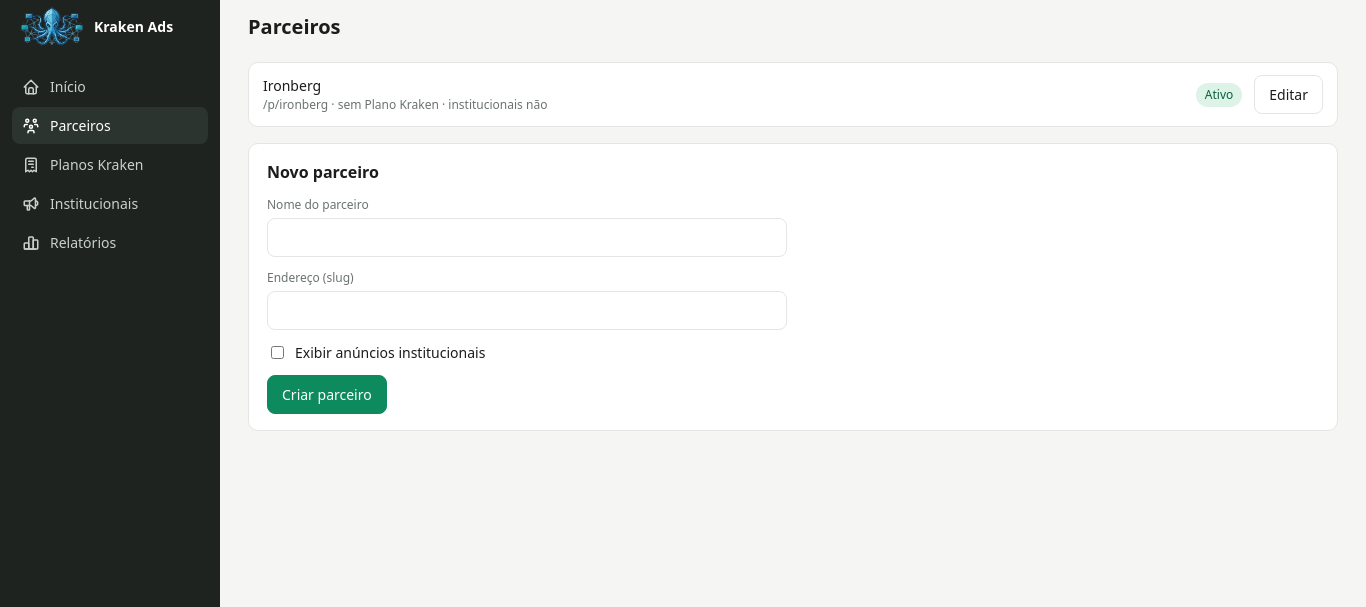
Test: admin partners › edits weights and adds a partner user
The image size is (1366, 607).
Click the button with aria-label "Editar Ironberg".
click(1289, 94)  # box [1254, 75, 1323, 114]
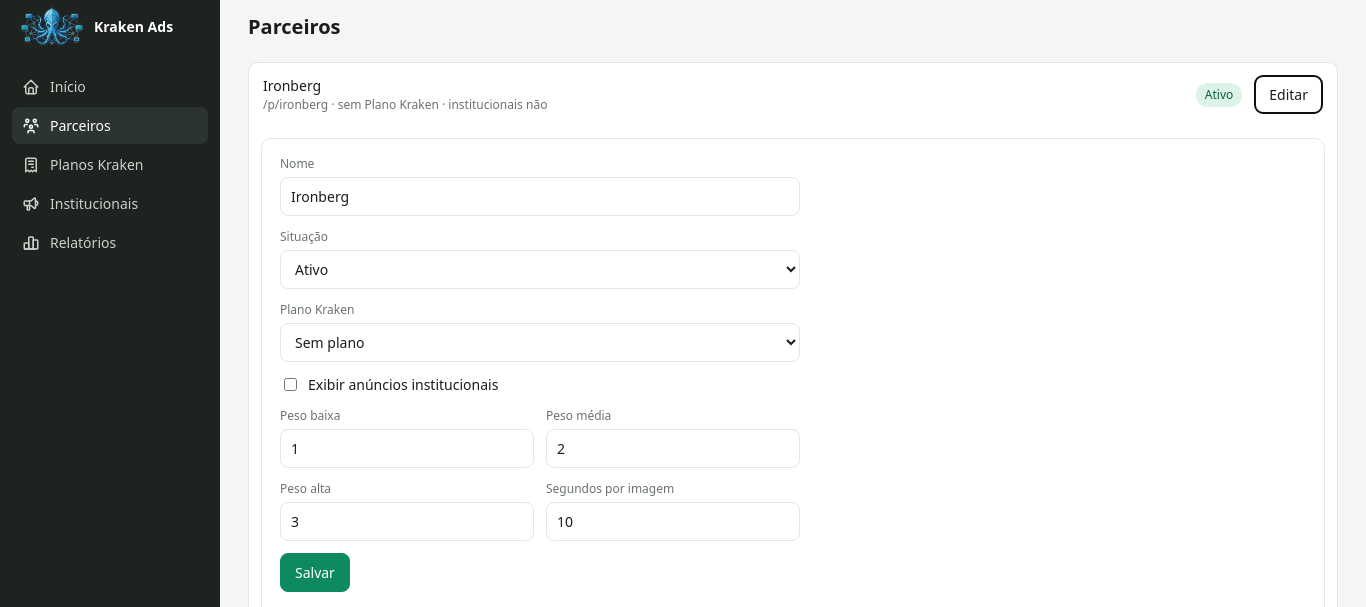
Replace the text in the number field labelled "Peso alta" with "5" at [407, 522], box [280, 502, 534, 541]
Click the checkbox labelled "Exibir anúncios institucionais".
click(290, 384)  # box [284, 378, 297, 391]
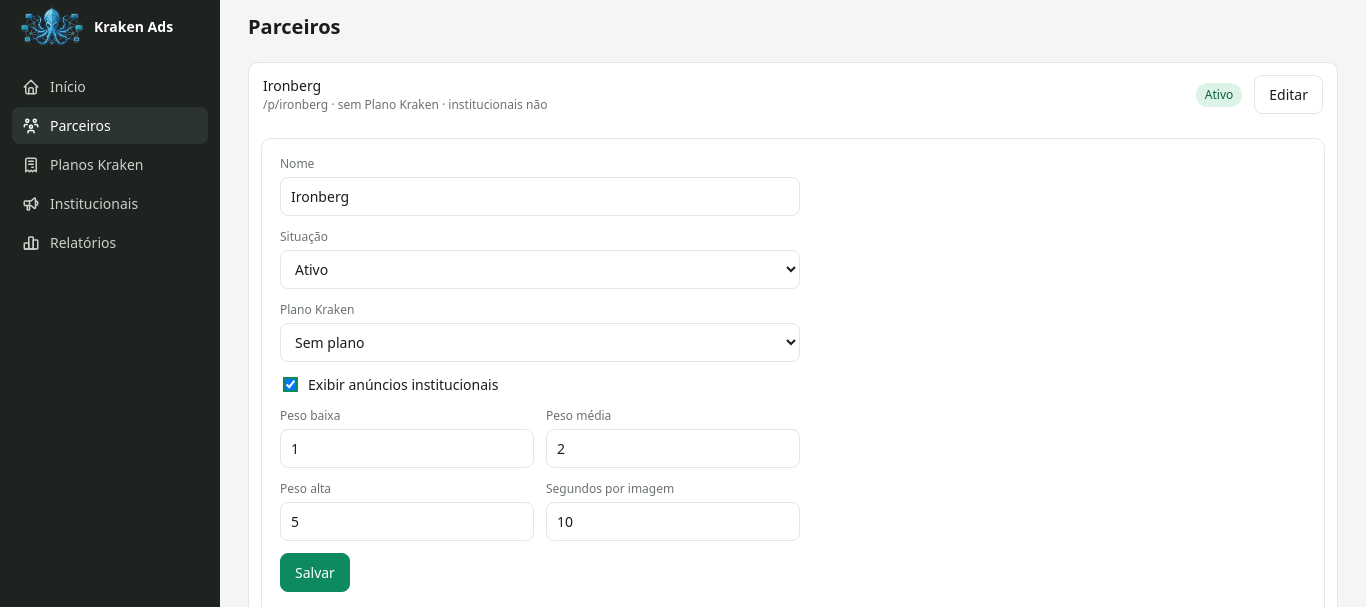
Click the button "Salvar".
click(315, 572)  # box [280, 553, 350, 592]
(page scrolled)
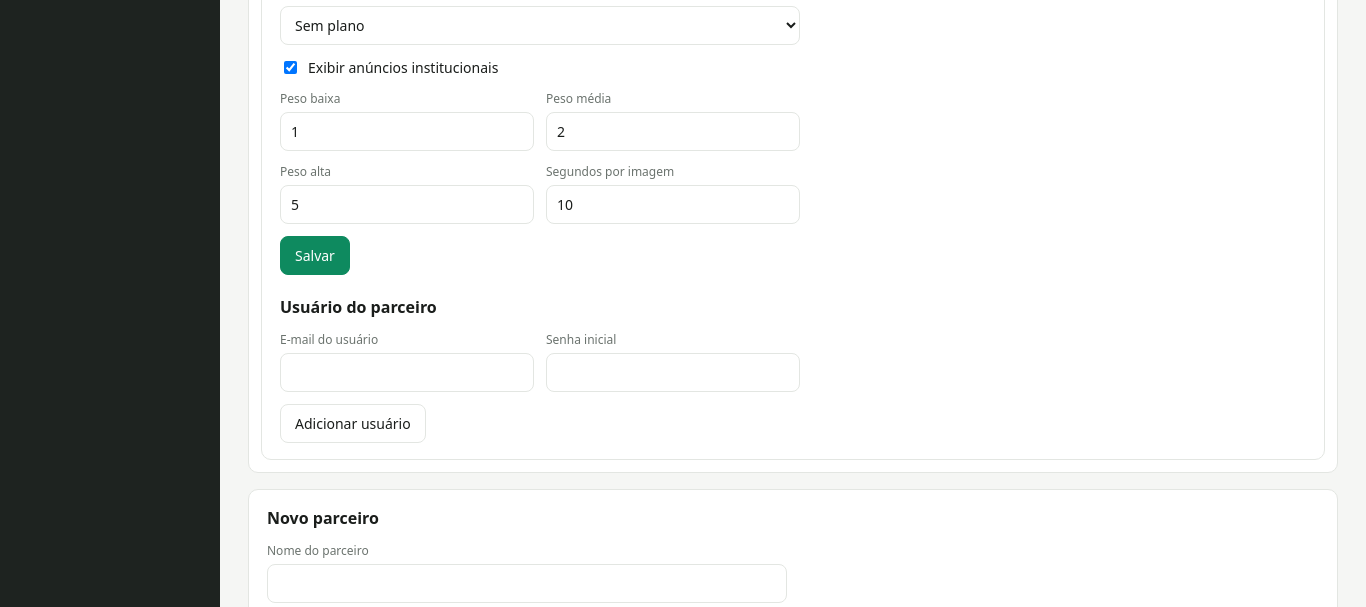
Type "g@iron.com" into the field labelled "E-mail do usuário".
click(407, 372); type("g@iron.com")  # box [280, 353, 534, 392]
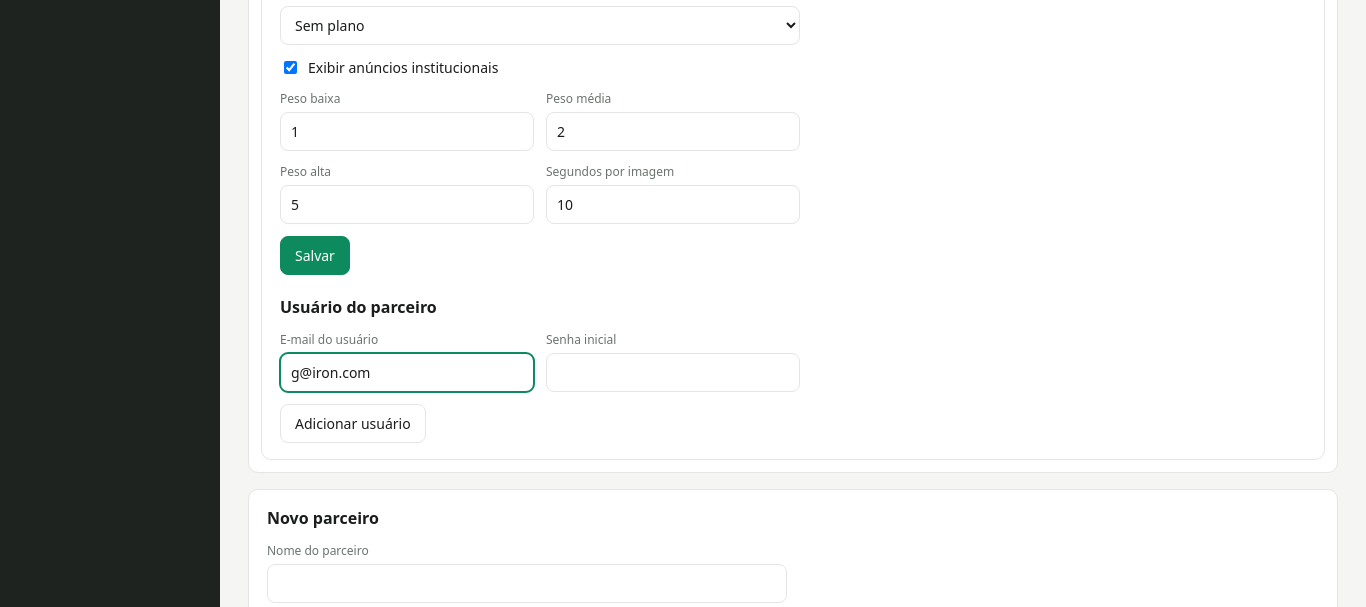
Type "senha-forte-1" into the password field labelled "Senha inicial".
click(673, 372); type("senha-forte-1")  # box [546, 353, 800, 392]
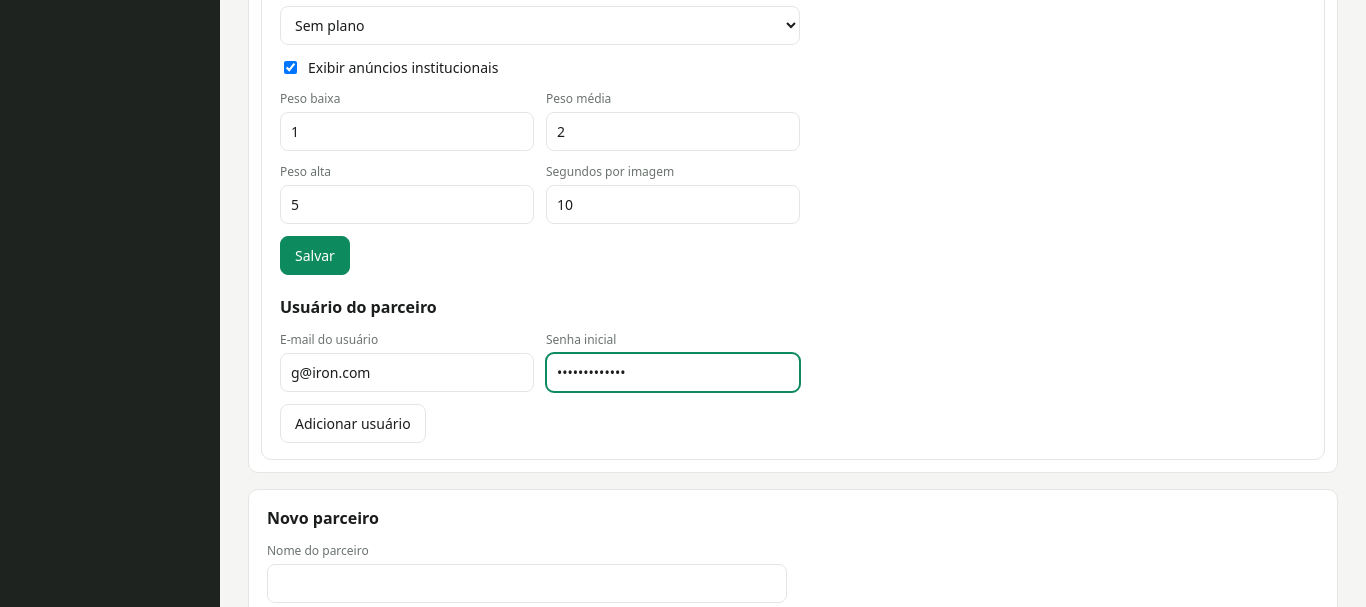
Click the button "Adicionar usuário".
click(353, 424)  # box [280, 404, 426, 443]
(page scrolled)
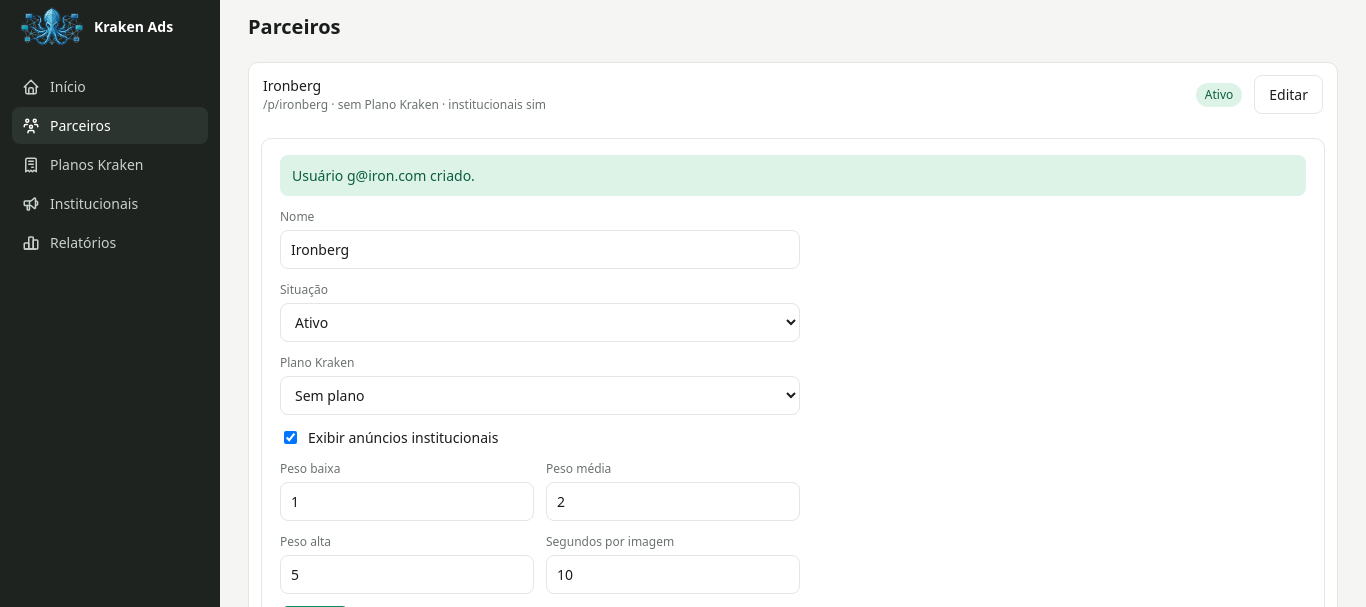
Result: the text "Usuário g@iron.com criado." is shown at [280, 155, 1306, 196]
